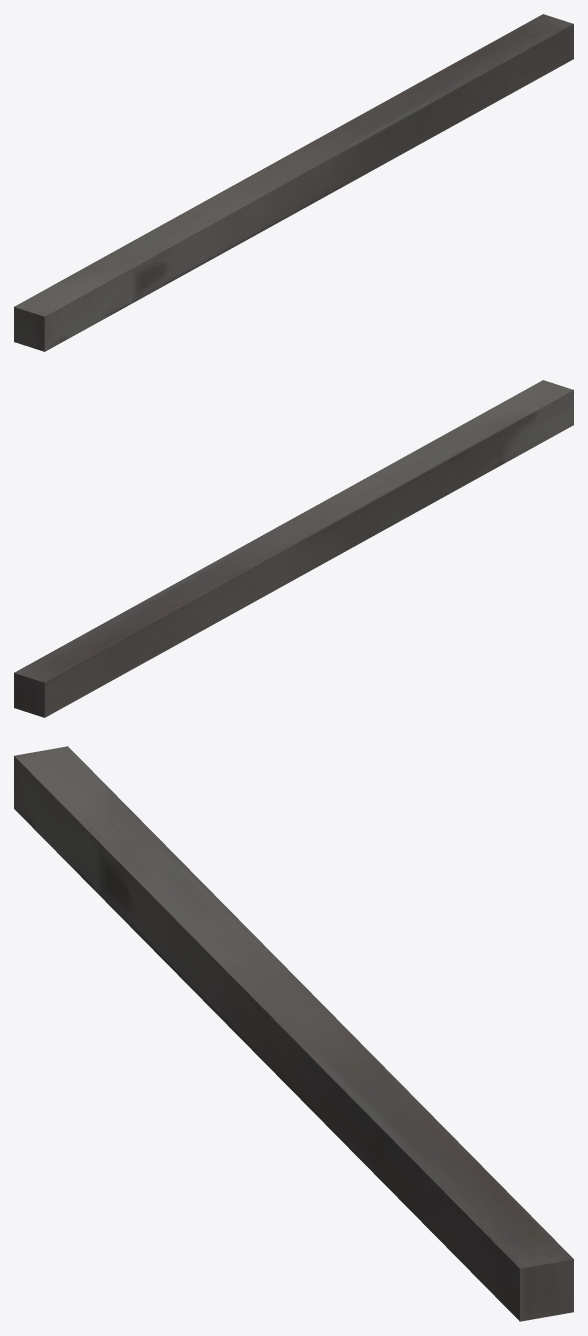
The model's file is base__front_brace_0.glb.
The picture shows the model from 3 angles, top to bottom: view 1: azimuth 30°, elevation 25°; view 2: azimuth 210°, elevation 25°; view 3: azimuth 270°, elevation 25°; orthographic projection. The views are drawn at different scales.
Visible parts, largest first — view 1: world; view 2: world; view 3: world.
Boxes of the visible parts, x1,y1,x2,y2 form: world: (14,14,573,351); world: (14,380,573,717); world: (14,746,573,1321).
Bounding box in the file's own units: 0.6769 × 0.032 × 0.3066.
1 material, 1 textured.
